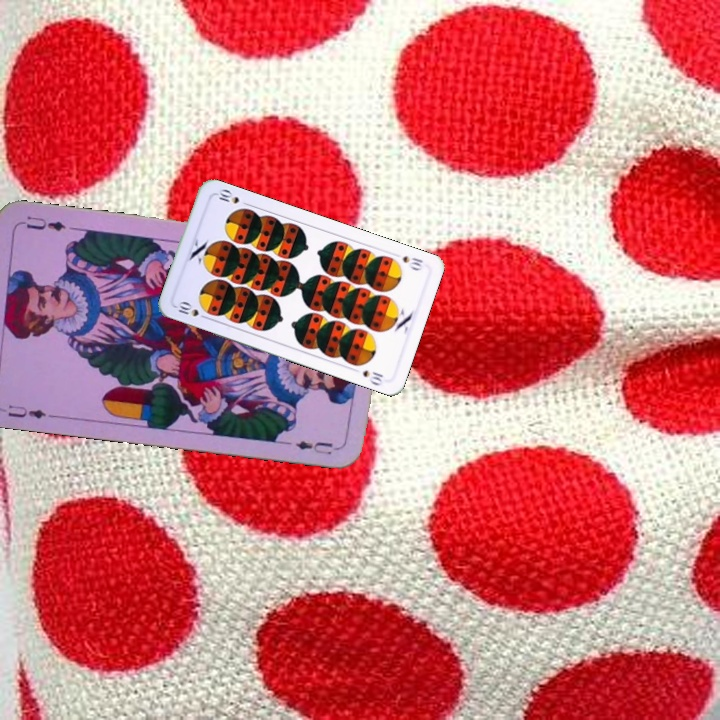EU: (4, 401, 55, 422)
S10: (174, 298, 211, 322), (399, 252, 426, 273)
